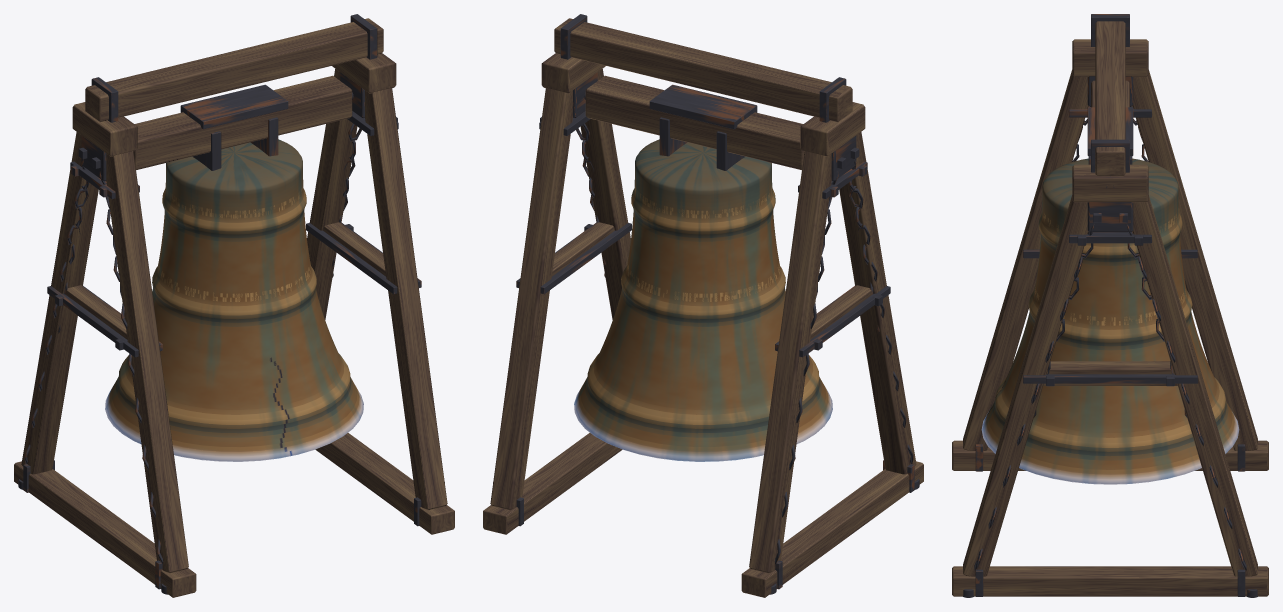
File: great-bell.glb
3 renders of one model, left to right at view 1: azimuth 30°, elevation 25°; view 2: azimuth 150°, elevation 25°; view 3: azimuth 270°, elevation 25°, orthographic.
Visible parts, largest first — view 1: body, swing; view 2: body, swing; view 3: body, swing.
Part boxes in pixels (left/top/right/bottom): body: left=14, top=14, right=454, bottom=597; swing: left=105, top=75, right=363, bottom=461; body: left=483, top=14, right=923, bottom=597; swing: left=574, top=75, right=832, bottom=461; body: left=952, top=14, right=1268, bottom=597; swing: left=981, top=80, right=1239, bottom=484.
Size of the model in its own units: 3.1 by 4.55 by 2.9.
1 material, 1 textured.
